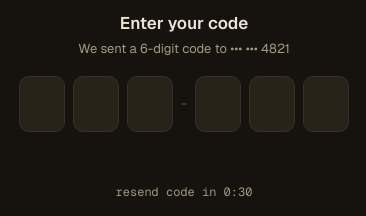
Test: OtpInput — checking › text overrides change the wording
Click the field named "Digit 1 of 6" at [42, 104], box x1=19 y1=76 x2=65 y2=132
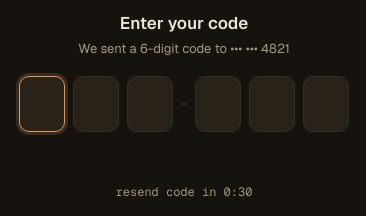
Type keys "246810"
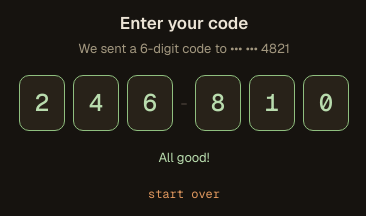
Check: the message reads "All good!", box x1=158 y1=148 x2=210 y2=166
